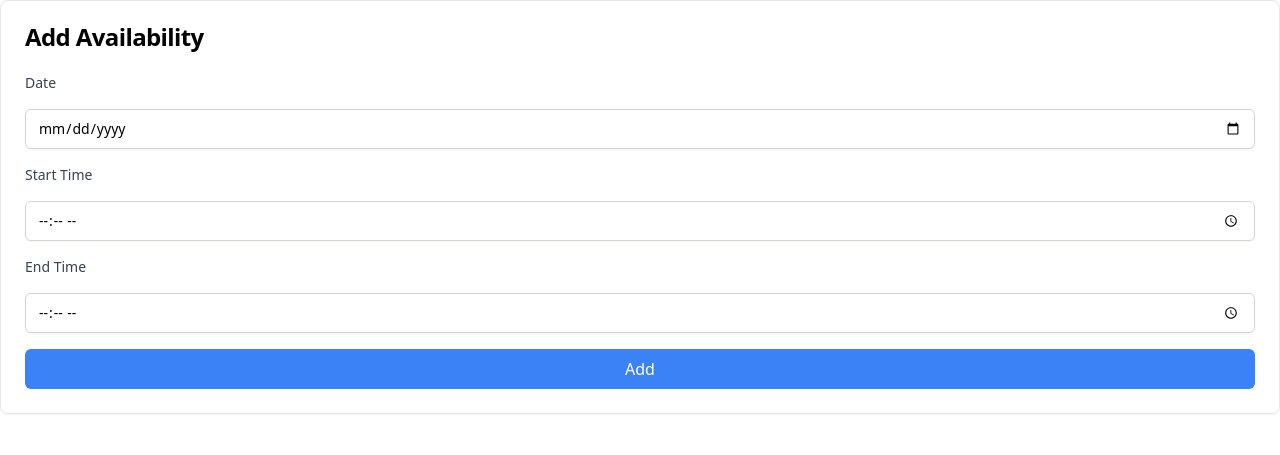
it: AddAvailability › end time should be after start time
The width and height of the screenshot is (1280, 455).
Type "2050-01-01" into the date field labelled "Date". click: [640, 129]
box: [25, 109, 1255, 149]
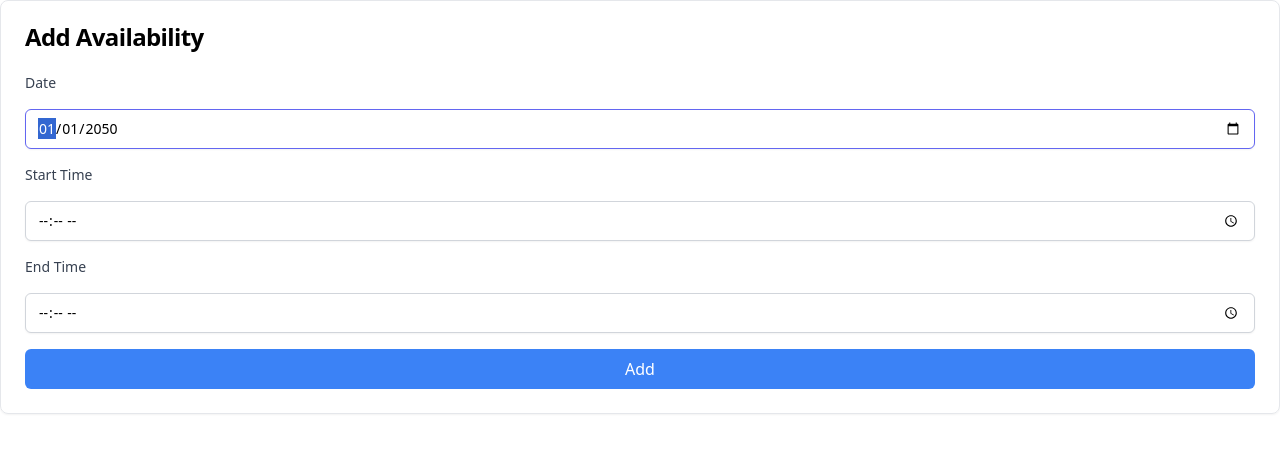
Type "11:00" into the time field labelled "Start Time". click: [640, 221]
box: [25, 201, 1255, 241]
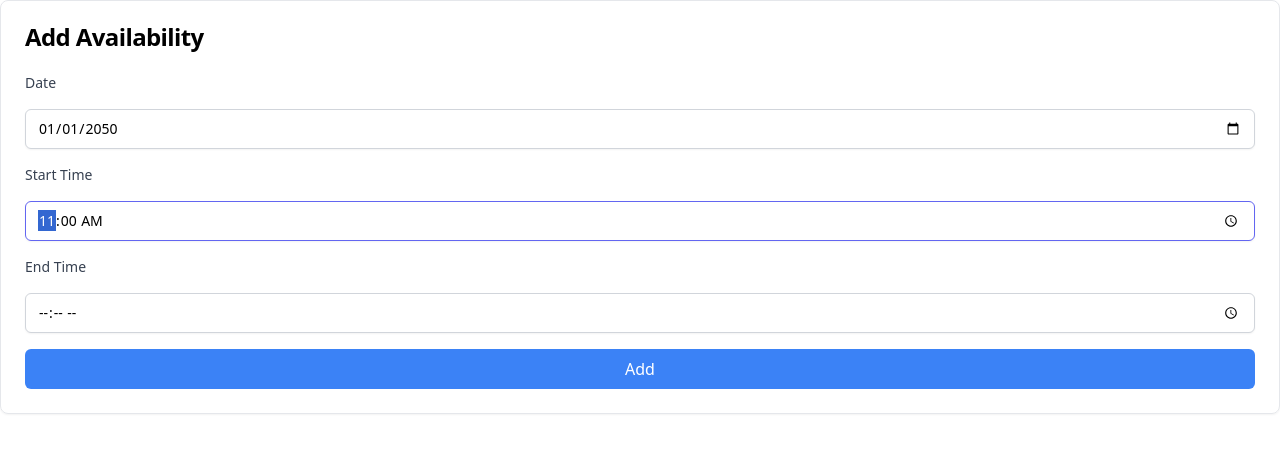
Type "10:00" into the time field labelled "End Time". click: [640, 313]
box: [25, 293, 1255, 333]
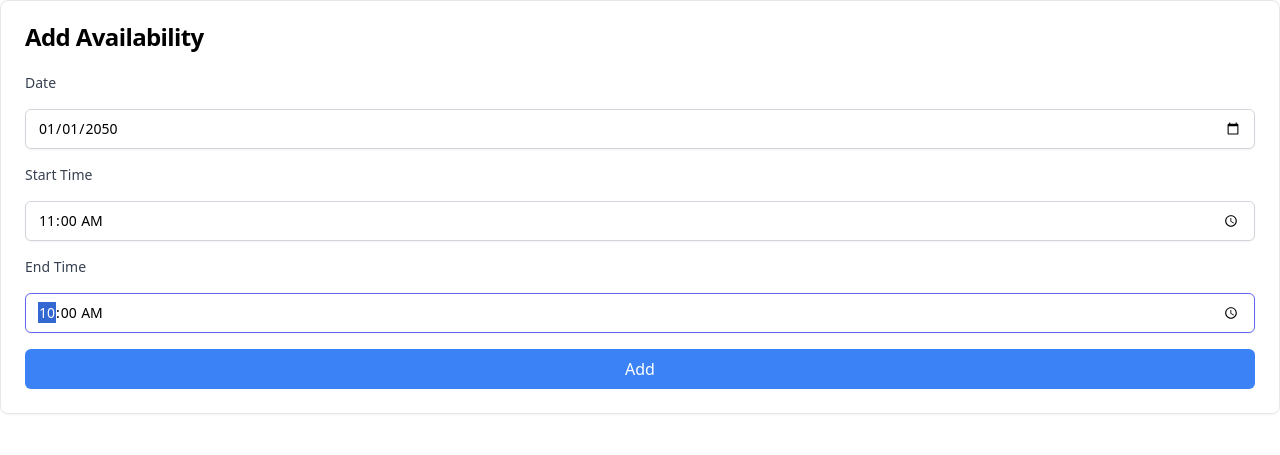
Click the button "Add". click: [640, 369]
box: [25, 349, 1255, 389]
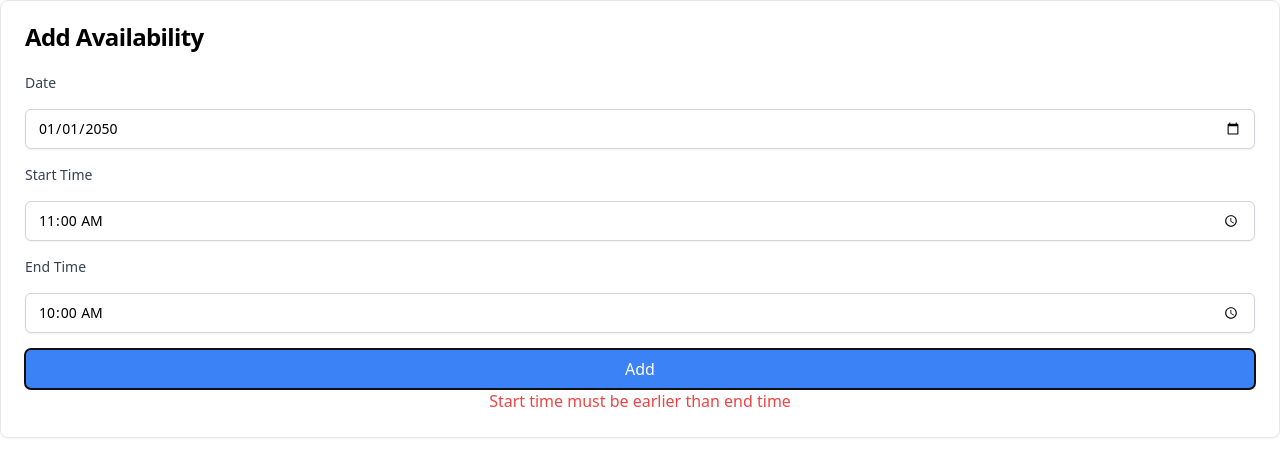
expect the text "Start time must be earlier than end time" is shown: met, box [489, 390, 791, 412]
